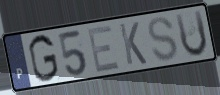5: (56, 27, 89, 78)
E: (85, 24, 122, 75)
G: (27, 33, 60, 84)
K: (117, 20, 149, 67)
S: (146, 15, 180, 63)
U: (173, 7, 210, 60)
